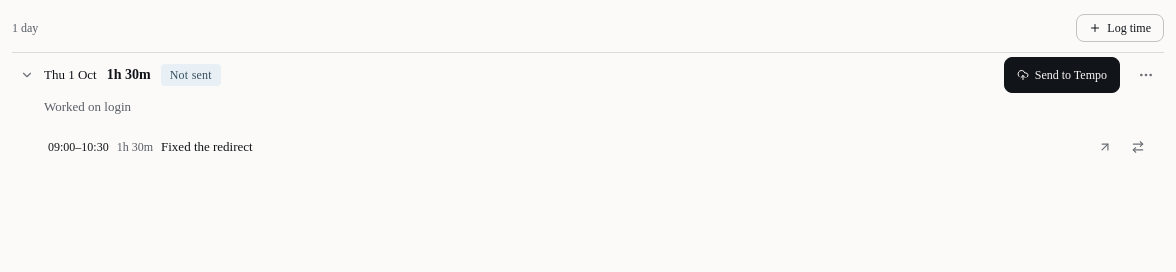
text editing layout › the editor opens under the day row, the line text hides while editing and the editor starts from it
Expected: the element with class "task-day-text" is shown, [44,99,131,114]
Click the button named "More for Thu 1 Oct": (1146, 75) [1128,57,1164,93]
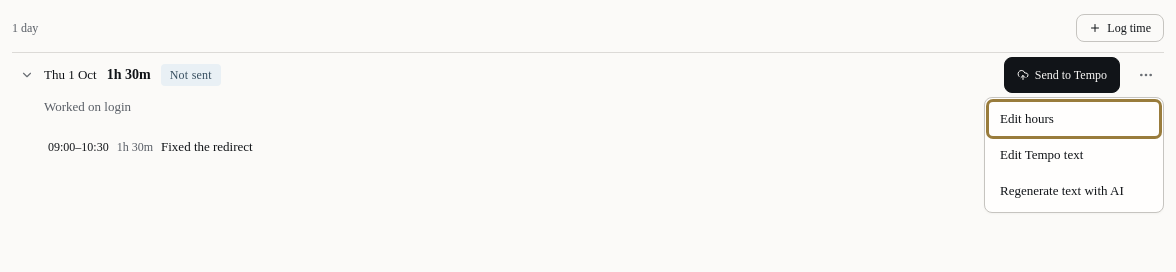
Click the menu item "Edit Tempo text": (1074, 155) [989,138,1159,172]
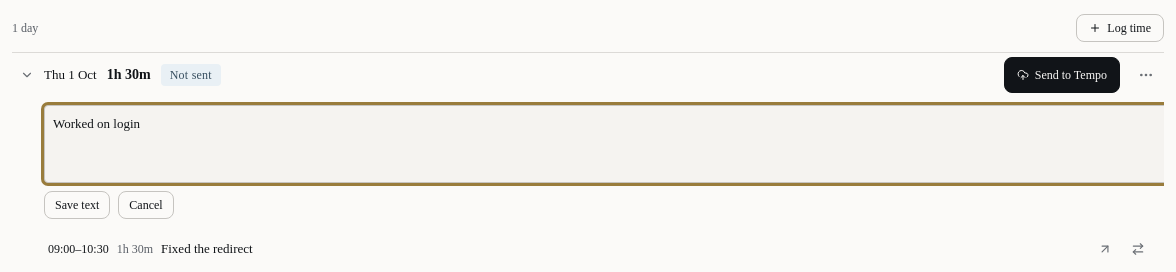
Expected: the element with class "task-day-text" is gone
